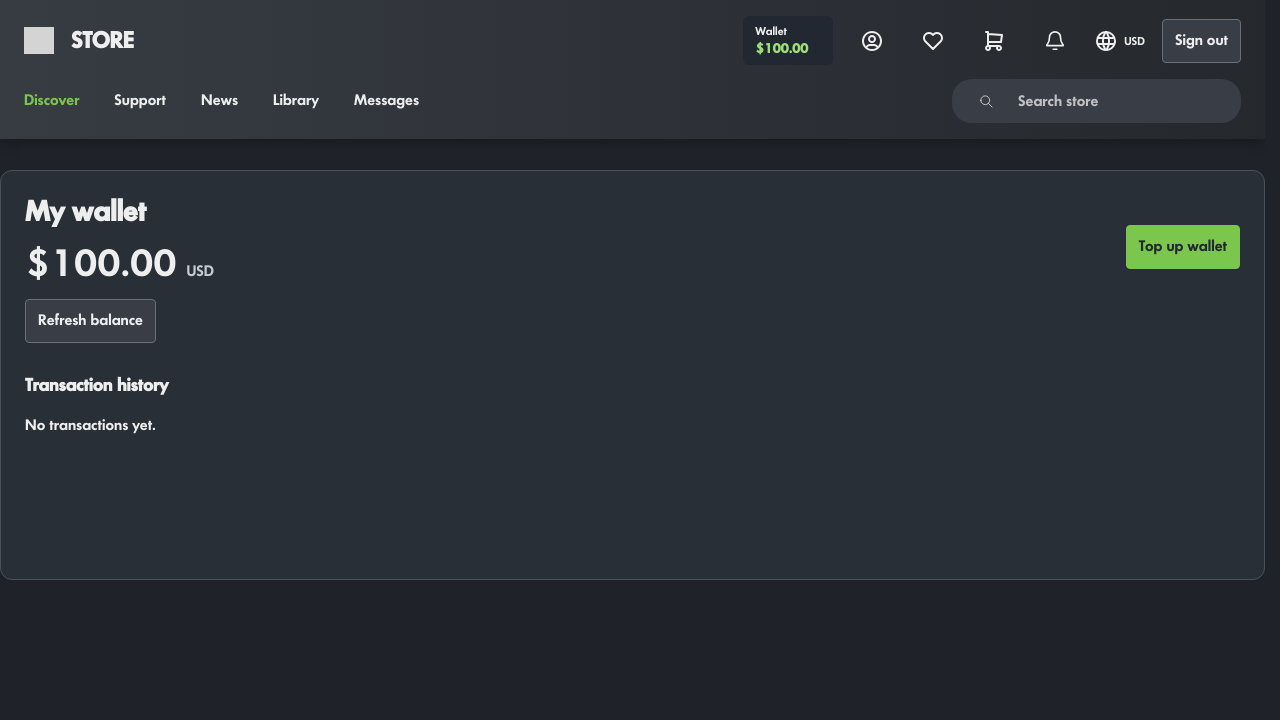
it: a failed reconciliation offers a balance-only retry before another top-up is allowed
Click the button "Top up wallet": (1183, 247) [1126,225,1240,269]
(page scrolled)
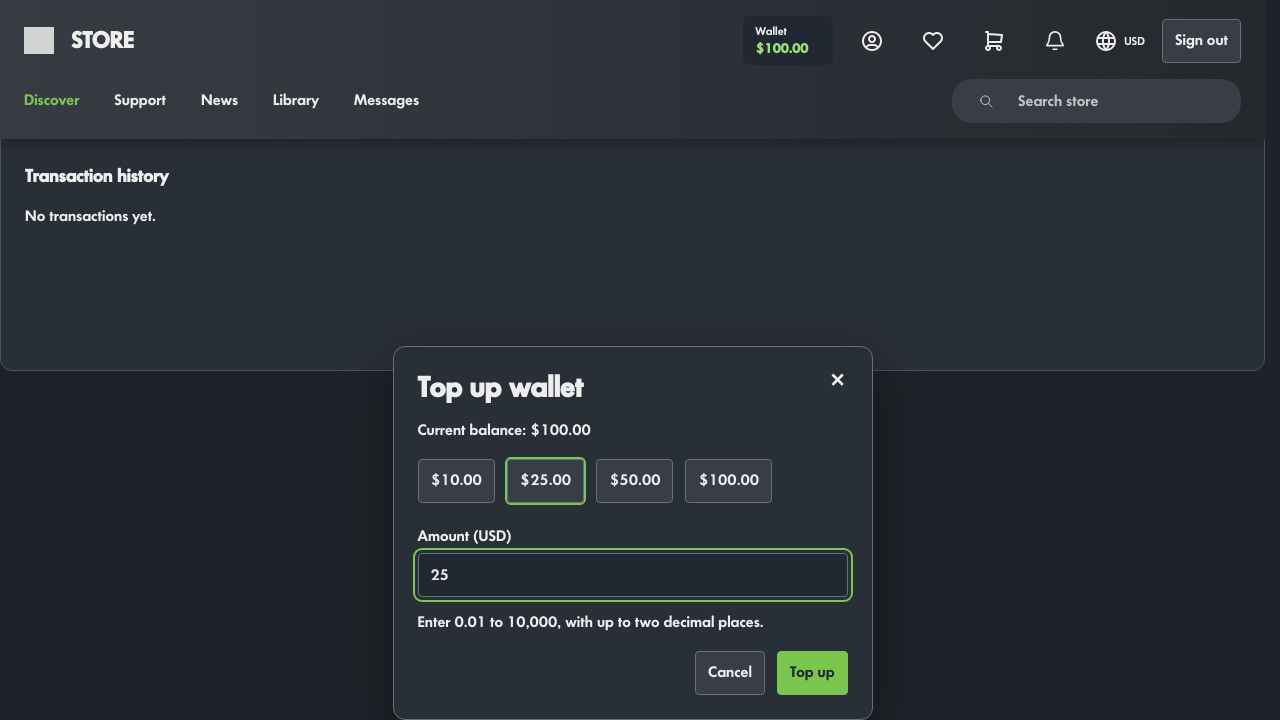
Click the button "Top up": (812, 673) [777,651,848,695]
(page scrolled)
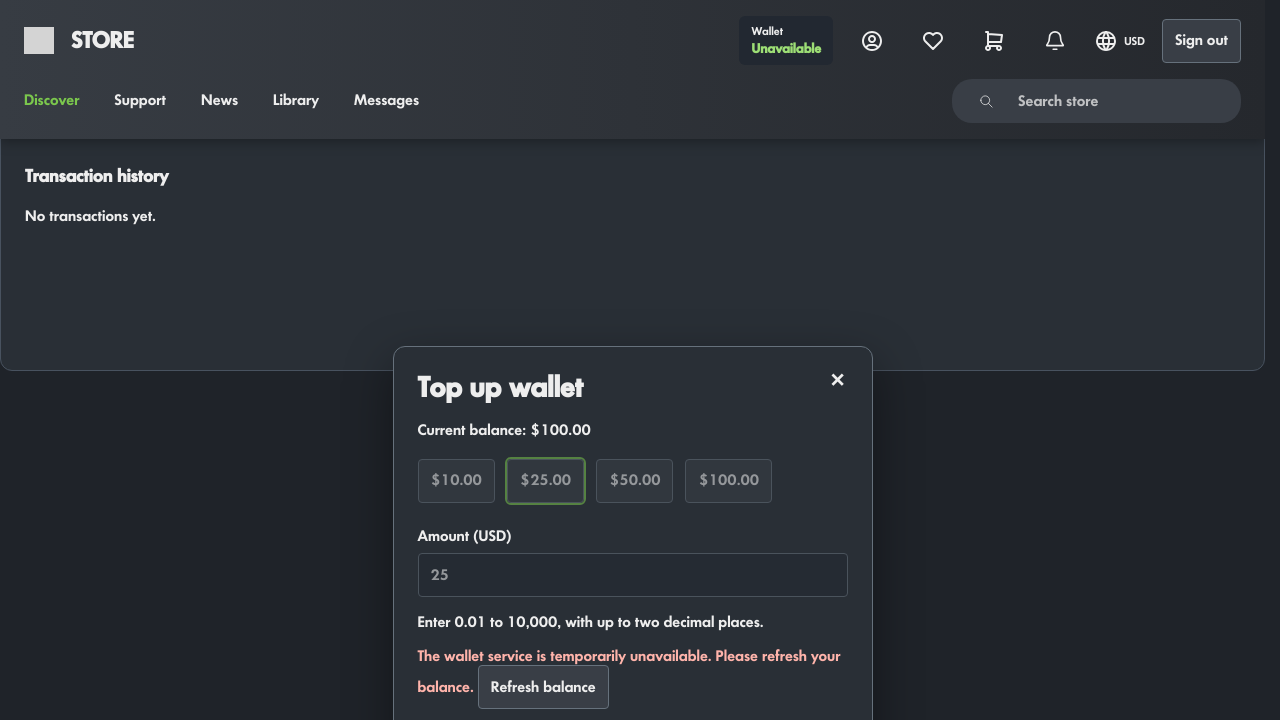
Click the button "Refresh balance": (543, 687) [478,665,609,709]
(page scrolled)
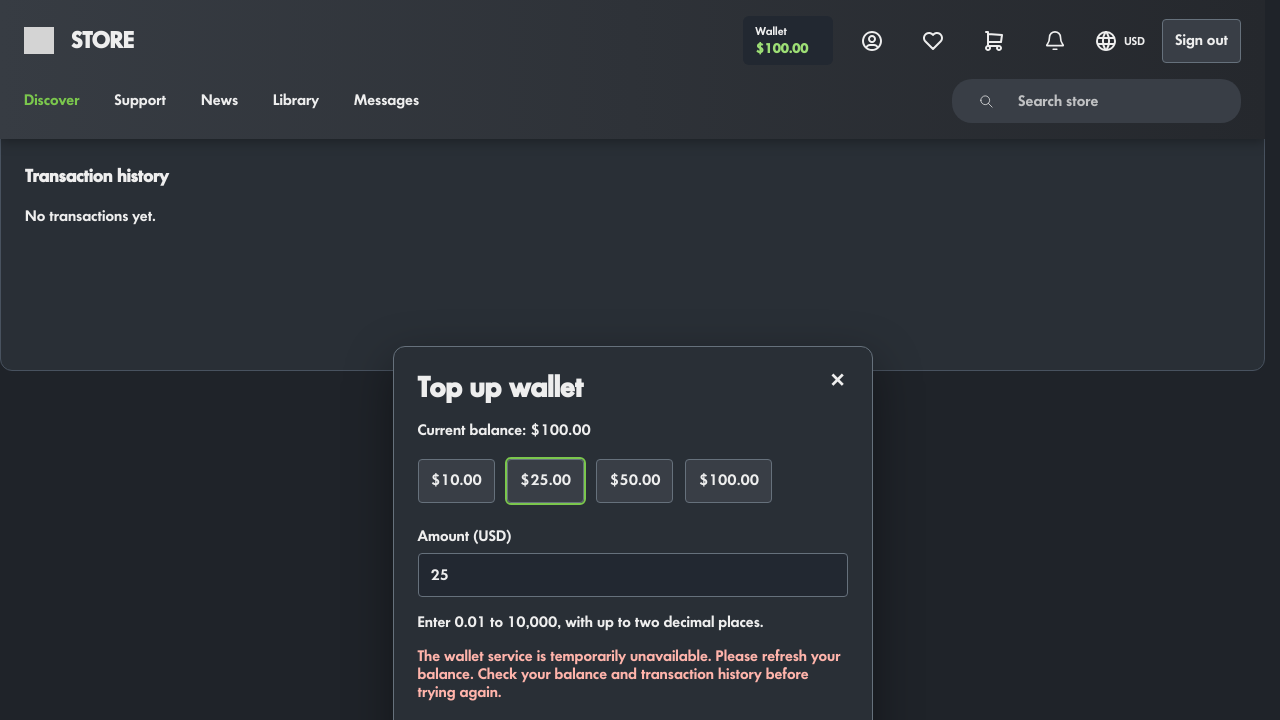
Check: the link with aria-label "Open wallet" shows "$100.00", box [743,16,833,65]
